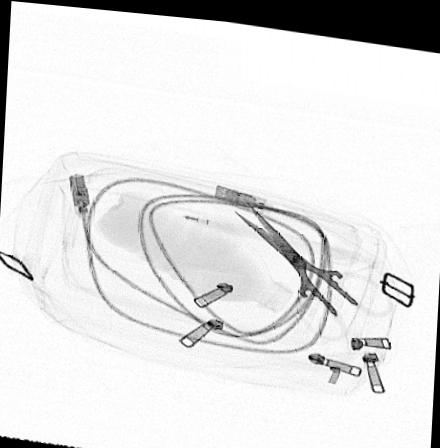Scissors: (231, 190, 396, 337)
